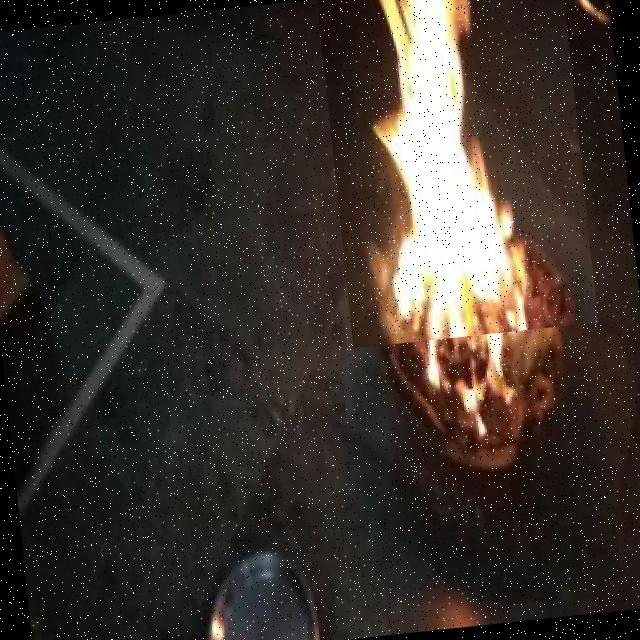fire: (316, 0, 597, 348)
